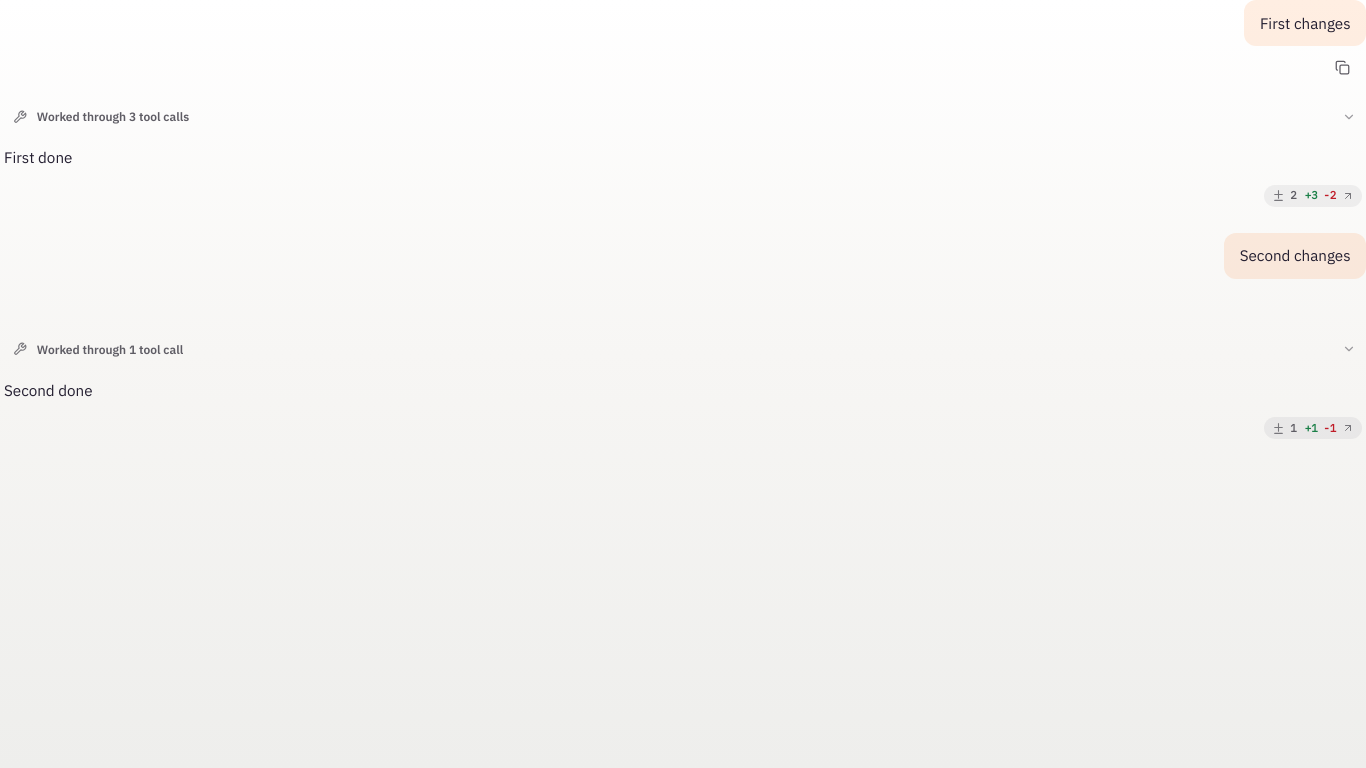
ActiveSessionView turn diffs › can close while loading and ignores a late renderer failure
Click the button named "Turn changes: 3 lines added, 2 lines deleted, 2 files changed" at (1313, 196), box [1264, 185, 1362, 207]
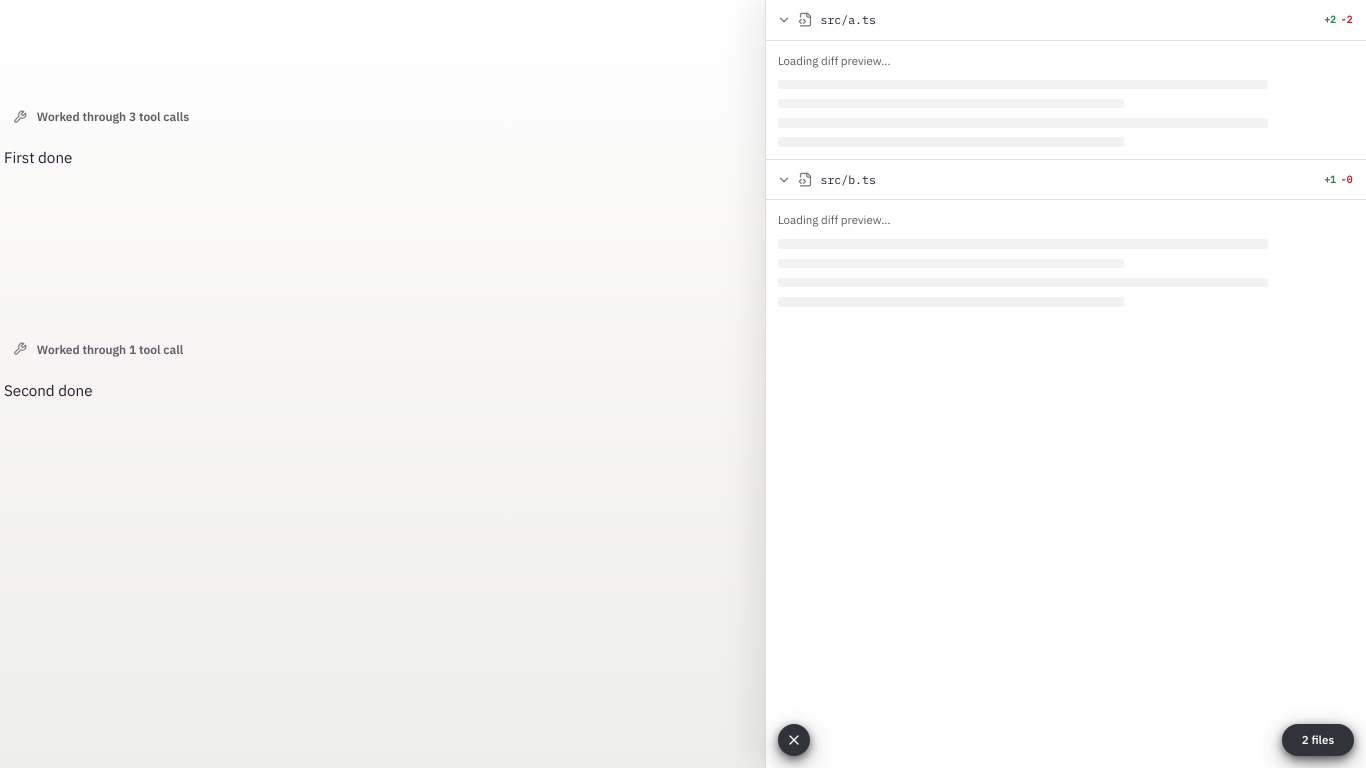
Check: the button with aria-label "Collapse src/a.ts" is shown, box [766, 0, 1365, 40]
Click the button named "Close turn diff" at (794, 740), box [778, 724, 810, 756]
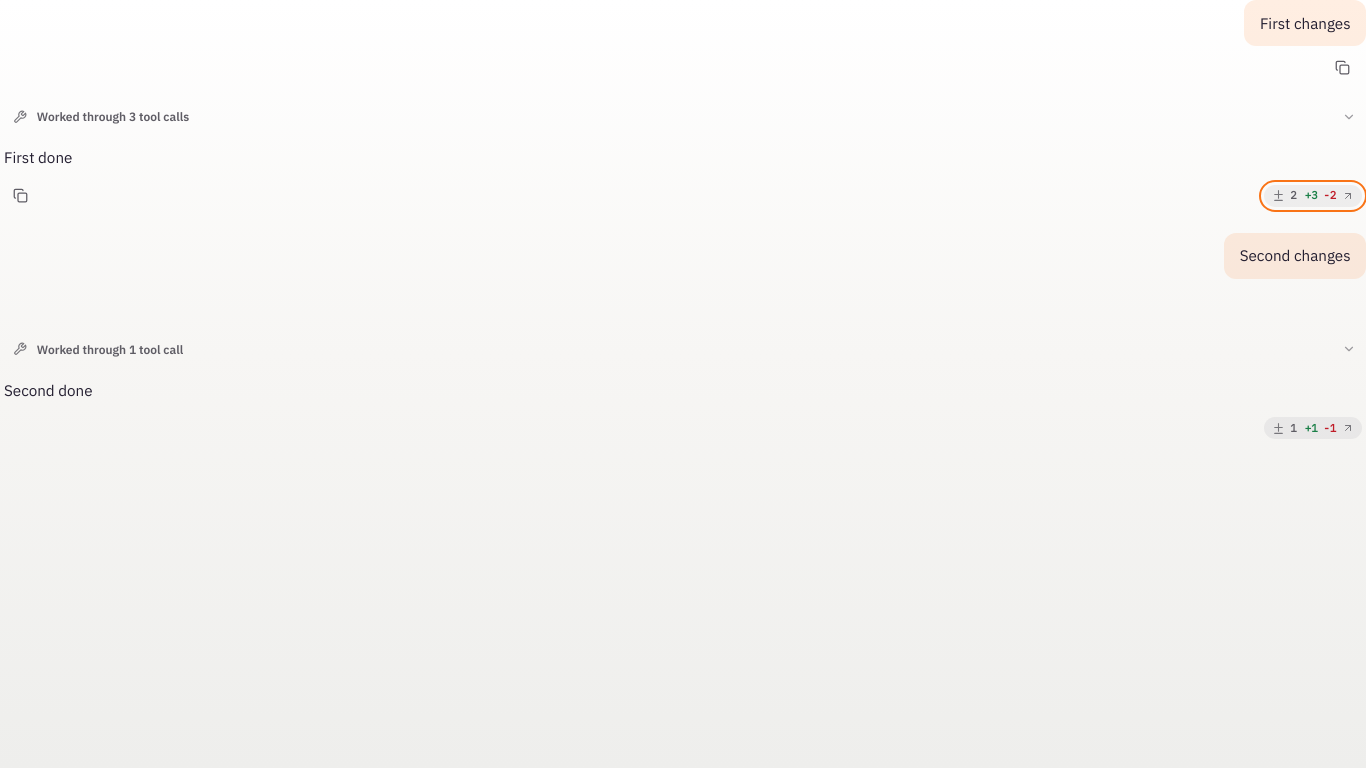
Check: the message "Loading diff preview..." is gone
